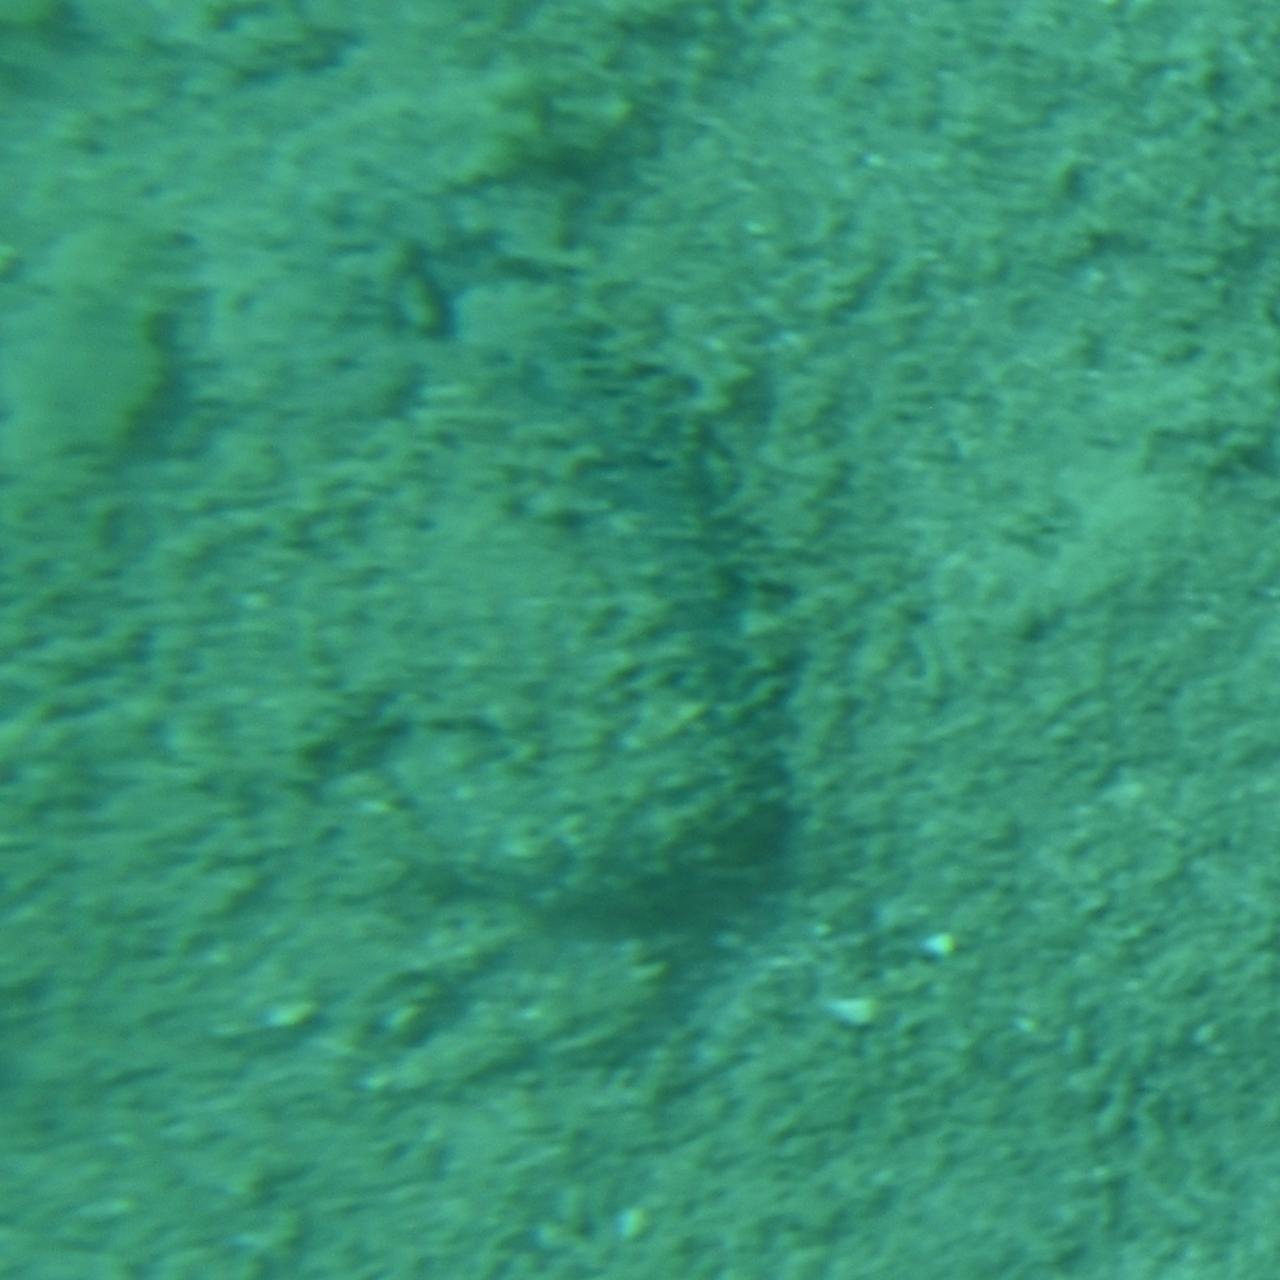Holothuria tubulosa: (429, 327, 806, 953)
